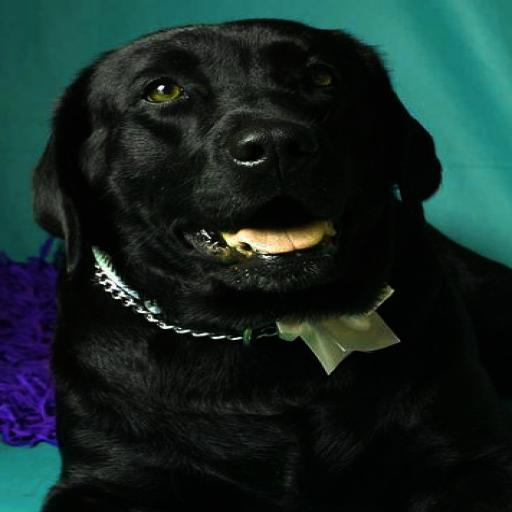dog_face: (31, 28, 428, 303)
